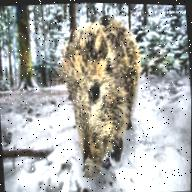boar: (51, 14, 148, 176)
